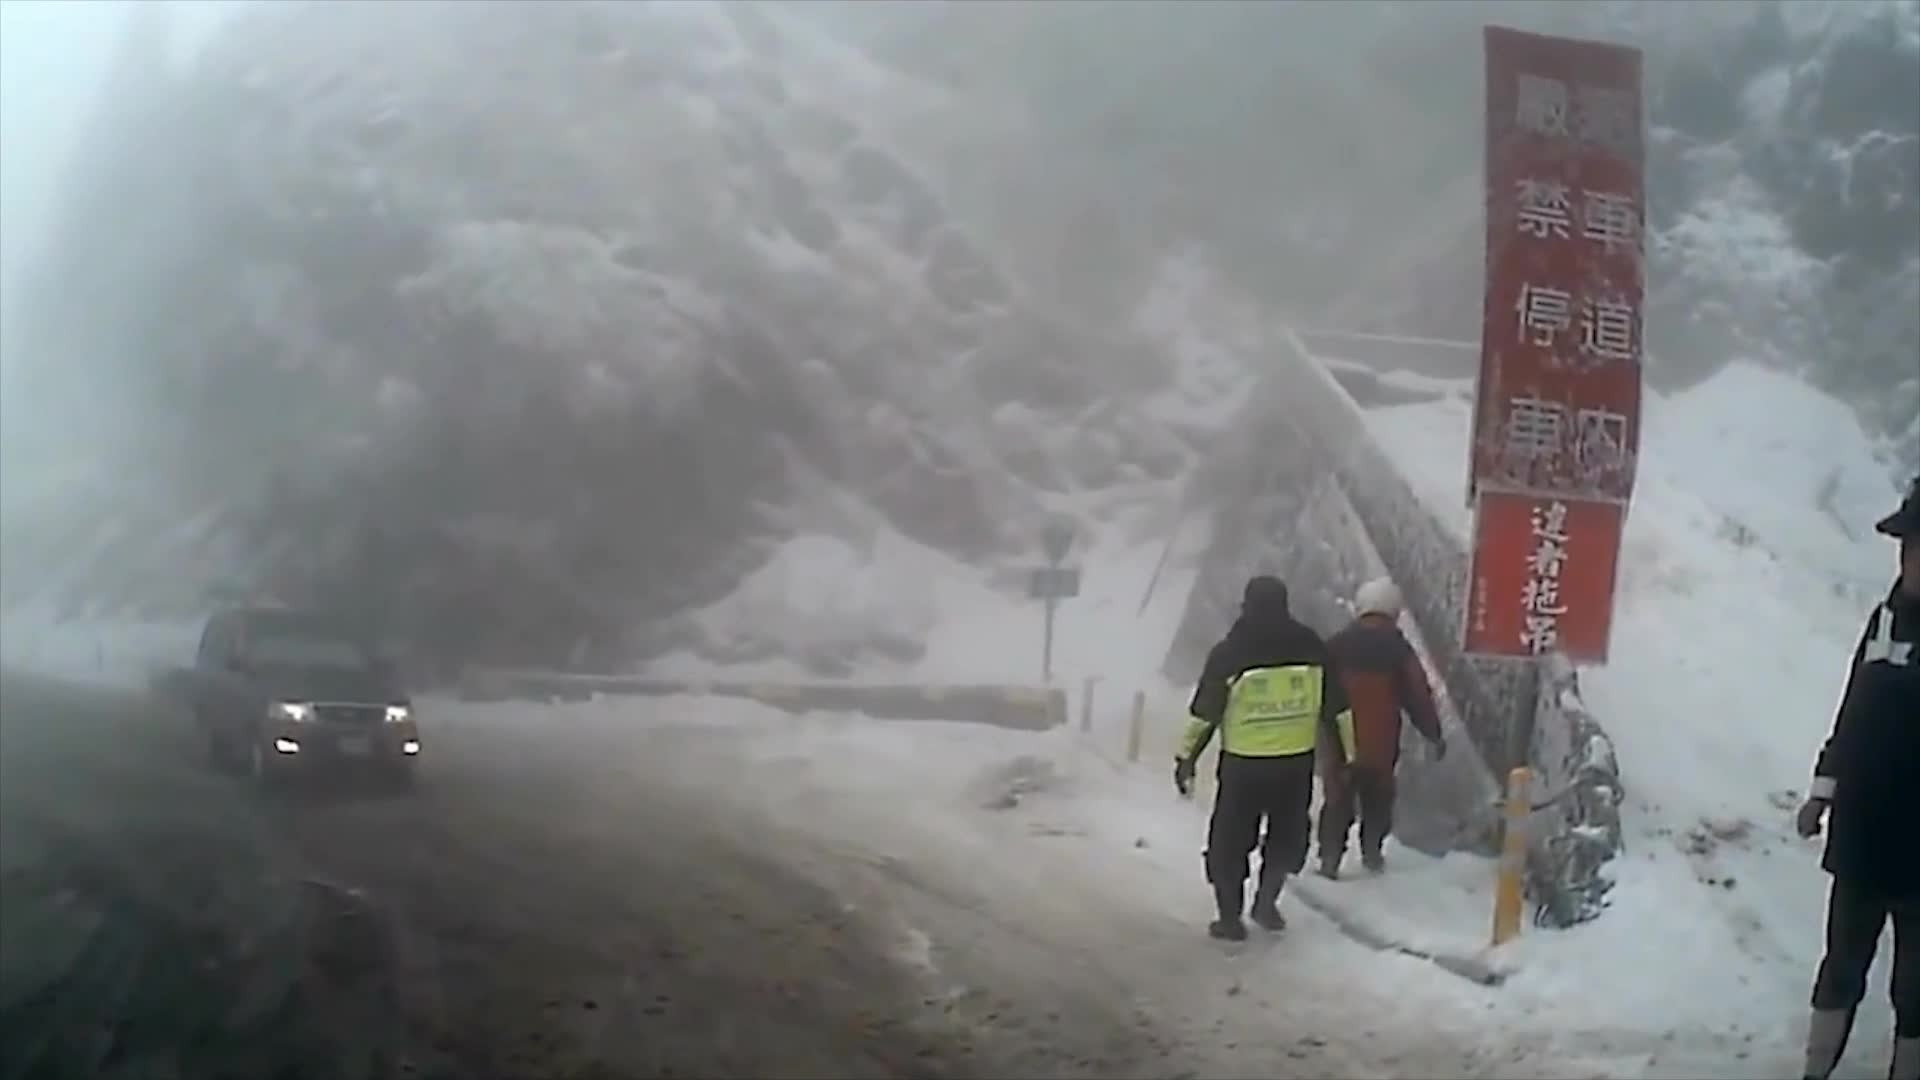pedestrian: (1789, 477, 1920, 1080), (1176, 579, 1371, 952), (1317, 575, 1447, 882)
vehicle: (189, 604, 422, 795)
